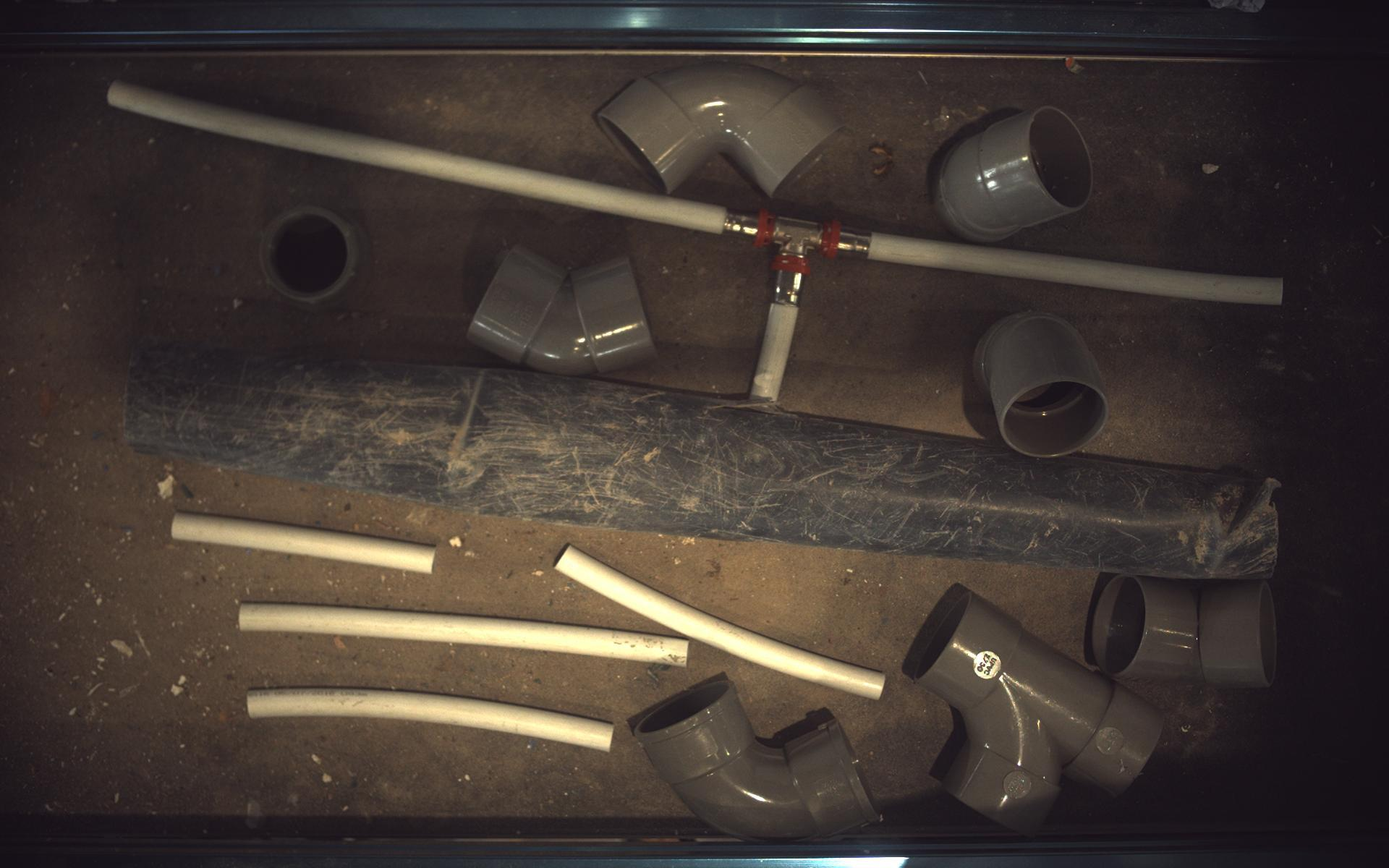pipes: (107, 81, 1286, 402), (124, 344, 1282, 579), (904, 585, 1165, 835), (556, 546, 887, 701), (632, 675, 879, 841), (596, 61, 844, 194), (238, 604, 688, 668), (467, 245, 656, 375), (246, 690, 614, 753), (1087, 574, 1279, 689), (936, 105, 1095, 242), (976, 311, 1111, 457), (170, 513, 436, 574), (260, 205, 360, 305)
